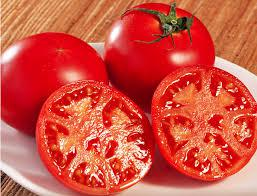tomato: (106, 4, 218, 109), (2, 33, 108, 135)
